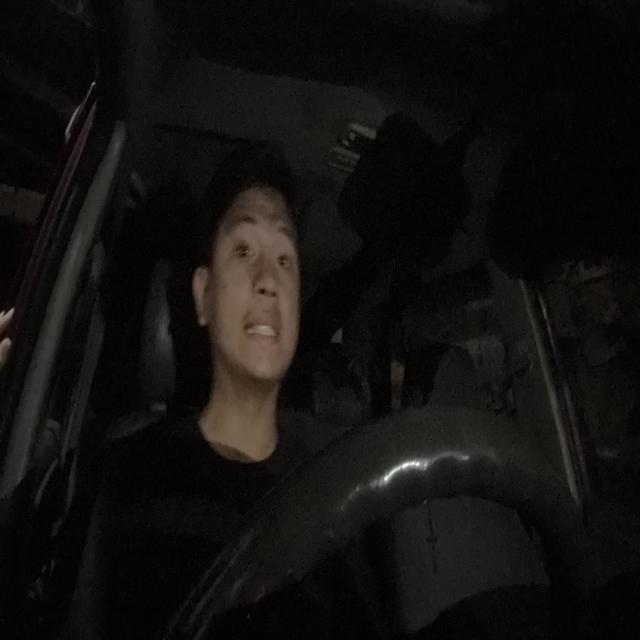open: (227, 211, 259, 275), (277, 218, 299, 288)
